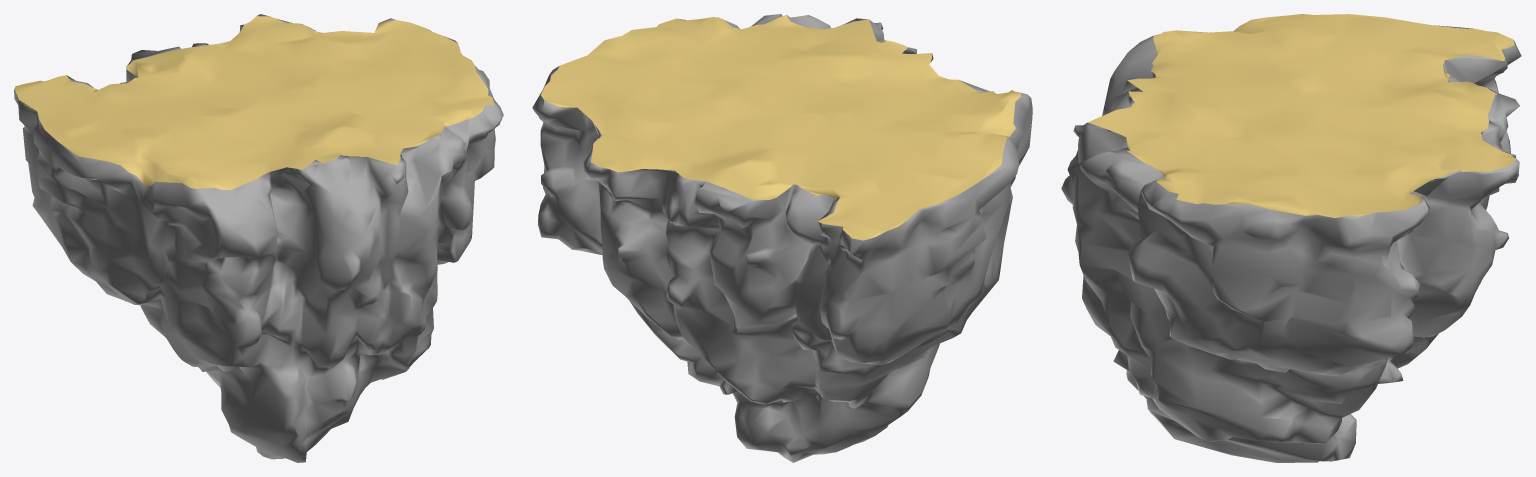
The model's file is fbx_island_01.fbx.
3 views of the same model, side by side, from view 1: azimuth 30°, elevation 25°; view 2: azimuth 150°, elevation 25°; view 3: azimuth 270°, elevation 25° (orthographic). The views are drawn at different scales.
Visible parts, largest first — view 1: Group10559; view 2: Group10559; view 3: Group10559.
Boxes of the visible parts, x1=… form: Group10559: x1=14, y1=14, x2=503, y2=462; Group10559: x1=532, y1=14, x2=1032, y2=462; Group10559: x1=1061, y1=14, x2=1521, y2=462.
Bounding box in the file's own units: 3.73 × 2.92 × 3.32.
